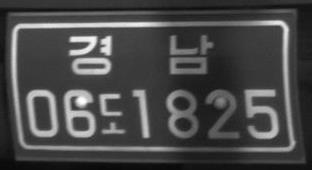0: (24, 88, 60, 139)
1: (129, 87, 155, 139)
2: (204, 87, 241, 140)
5: (242, 88, 280, 140)
6: (62, 88, 97, 138)
8: (164, 88, 200, 140)
경남_D: (68, 32, 214, 77)
도: (97, 91, 126, 135)
